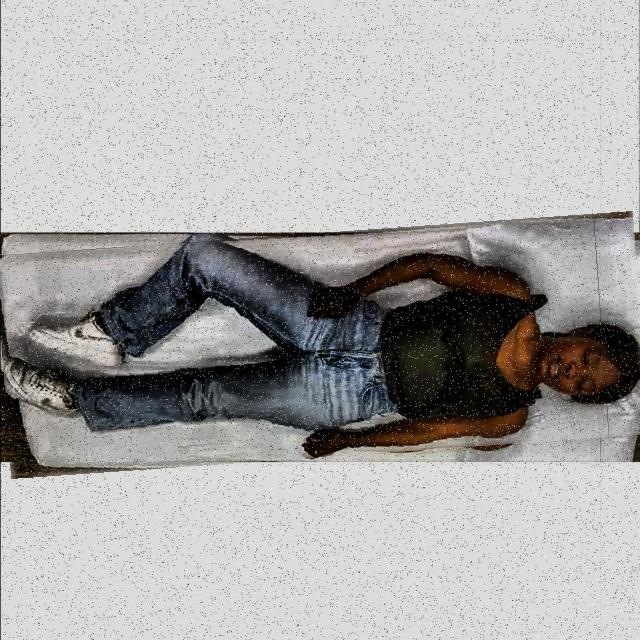Supine: (3, 241, 640, 458)
